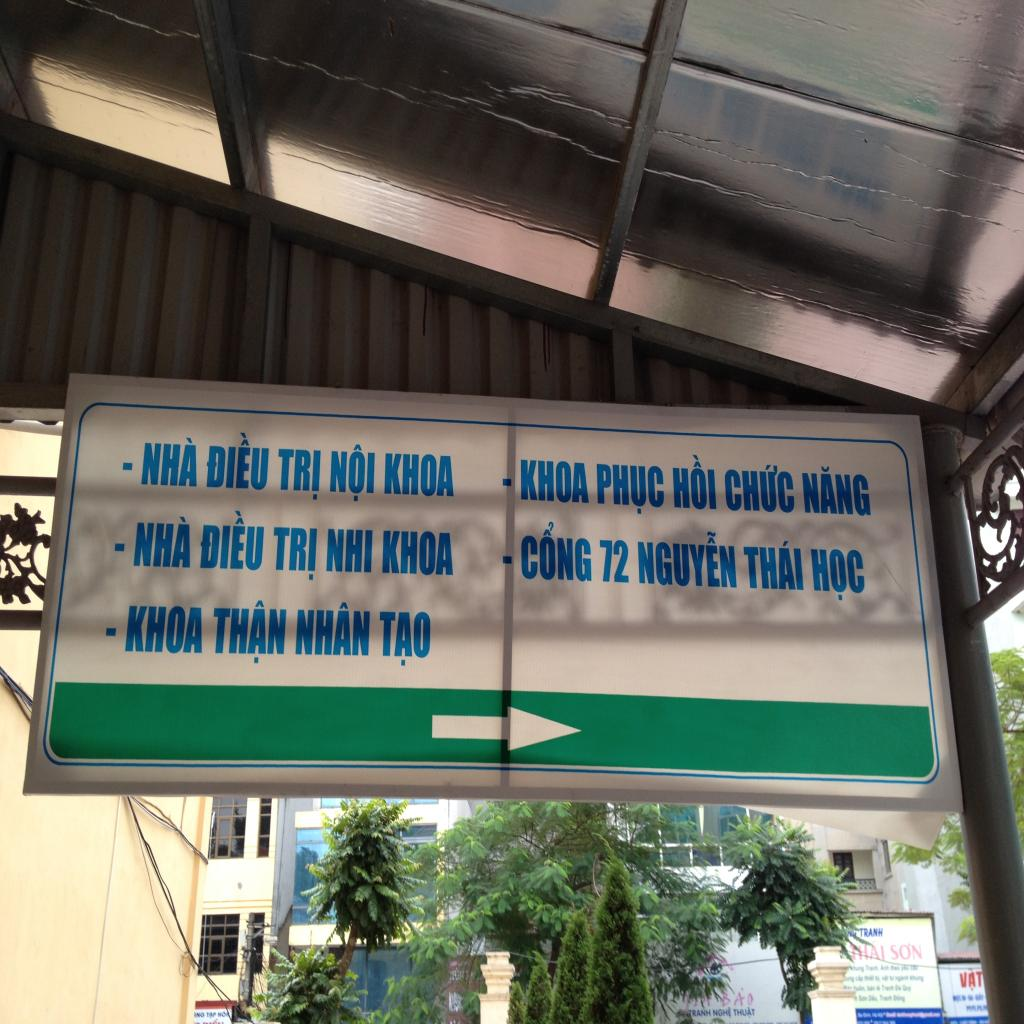text: (637, 526, 738, 589), (209, 600, 288, 665), (520, 520, 592, 584), (198, 506, 266, 572), (295, 600, 371, 658), (203, 429, 271, 491), (724, 460, 796, 514), (125, 605, 202, 655), (596, 462, 666, 517), (801, 464, 872, 518), (382, 529, 454, 576), (132, 512, 191, 569), (742, 537, 804, 591), (384, 452, 456, 498), (520, 458, 590, 505), (810, 548, 867, 604), (141, 434, 198, 488), (377, 610, 431, 667), (329, 441, 376, 503), (671, 452, 717, 511), (269, 526, 318, 581), (276, 447, 322, 502), (326, 528, 373, 574), (600, 538, 630, 584), (721, 986, 755, 1008), (958, 967, 985, 992), (889, 943, 924, 961), (858, 940, 886, 962), (732, 1008, 757, 1019), (687, 1008, 712, 1018), (859, 928, 884, 938), (712, 1007, 732, 1019), (217, 1009, 227, 1020), (206, 1012, 217, 1020), (196, 1012, 205, 1020)
